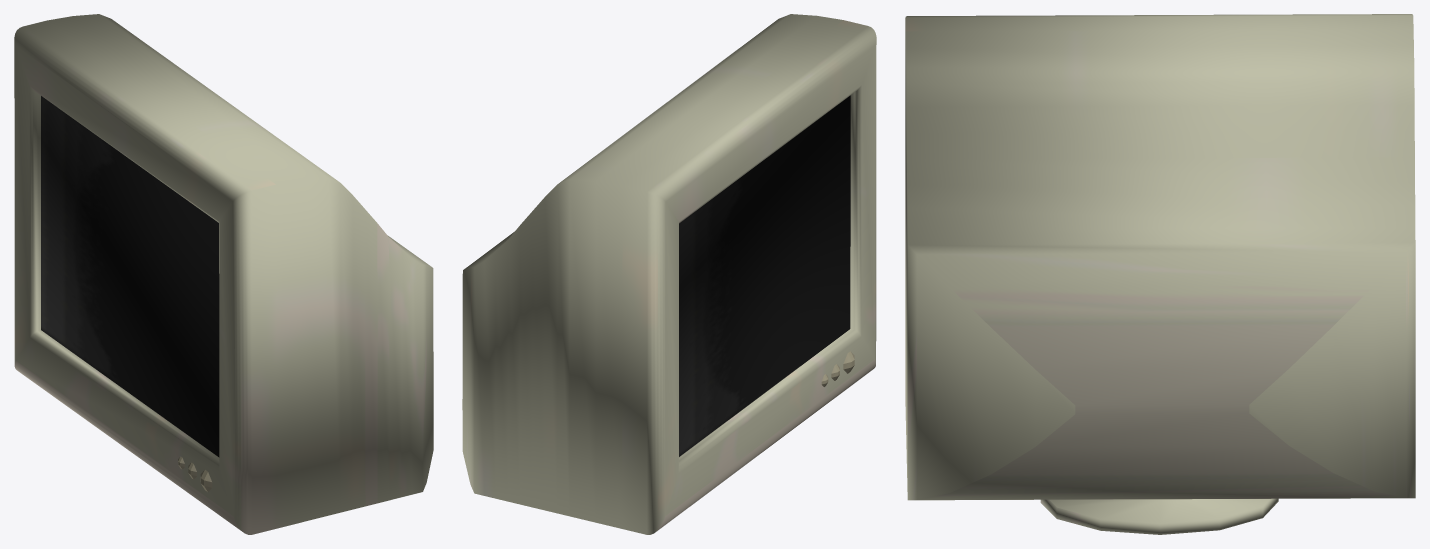
File: object_8_lev1.glb
The picture shows the model from 3 angles, left to right: view 1: azimuth 30°, elevation 25°; view 2: azimuth 150°, elevation 25°; view 3: azimuth 270°, elevation 25°; orthographic projection. The views are drawn at different scales.
Parts seen in each view (by area): view 1: object_8_lev1; view 2: object_8_lev1; view 3: object_8_lev1.
Boxes of the visible parts, x1,y1,x2,y2 form: object_8_lev1: (14,14,433,534); object_8_lev1: (462,14,876,534); object_8_lev1: (905,14,1415,534).
Size of the model in its own units: 0.6892 by 0.9856 by 1.08.
Materials: 1 (1 with a texture image).
